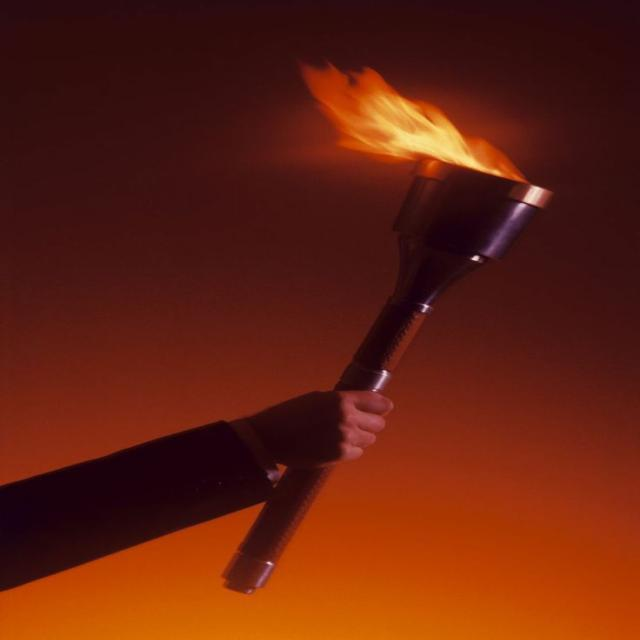Fire: (307, 31, 552, 205)
